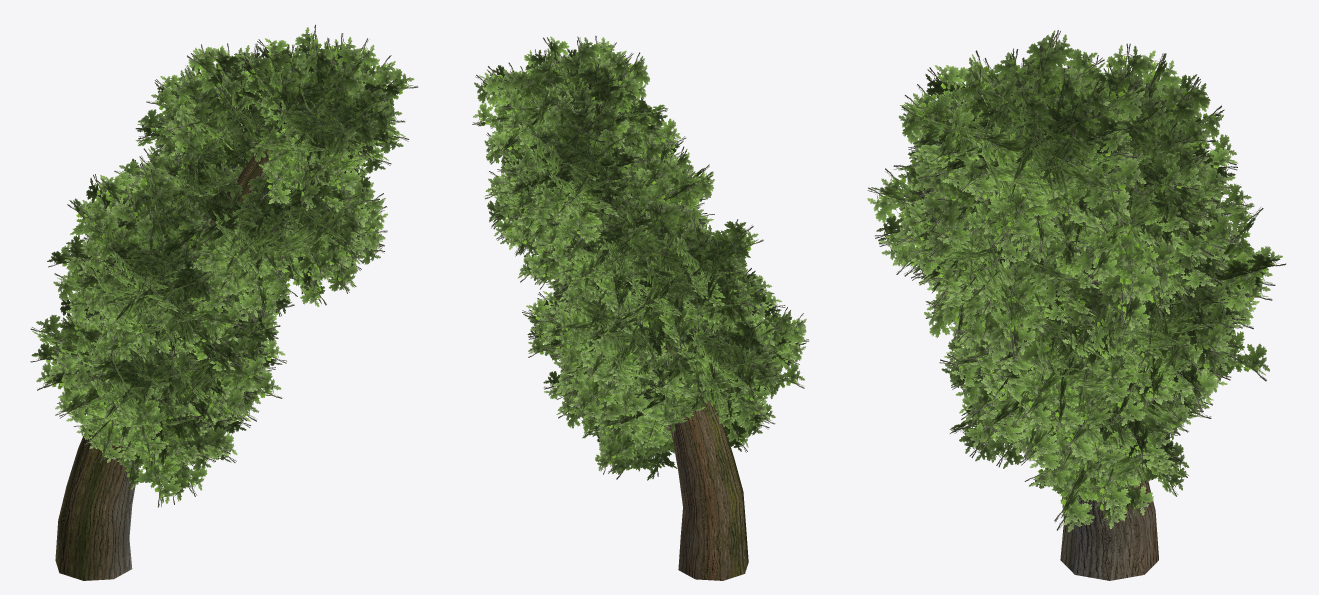
The model's file is eztree-white-oak-open-b.glb.
3 views of the same model, side by side, from view 1: azimuth 30°, elevation 25°; view 2: azimuth 150°, elevation 25°; view 3: azimuth 270°, elevation 25° (orthographic). The views are drawn at different scales.
Parts seen in each view (by area): view 1: eztree-white-oak-open-b; view 2: eztree-white-oak-open-b; view 3: eztree-white-oak-open-b.
Boxes of the visible parts, x1,y1,x2,y2 form: eztree-white-oak-open-b: (30, 24, 418, 580); eztree-white-oak-open-b: (472, 35, 808, 580); eztree-white-oak-open-b: (867, 30, 1285, 580).
Bounding box in the file's own units: 36.27 × 48.42 × 31.13.
Materials: 2 (2 with a texture image).
